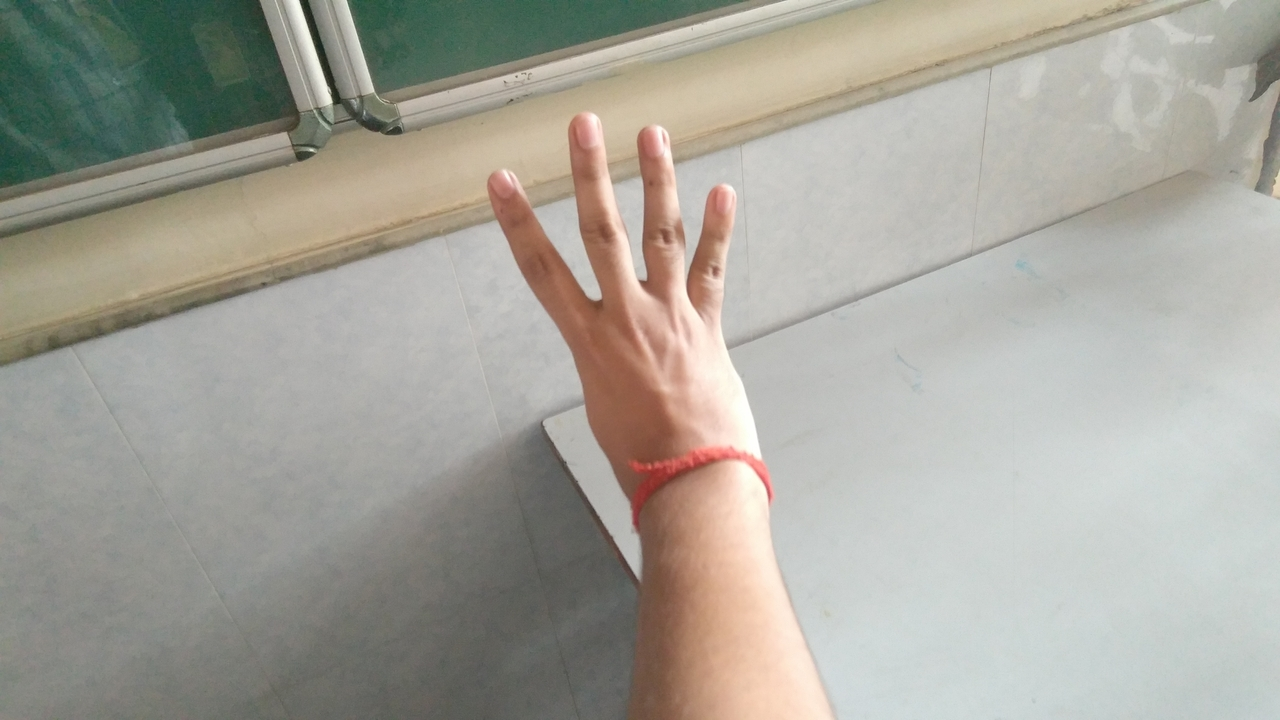fingertip: (476, 154, 532, 208), (698, 172, 748, 222), (560, 102, 612, 150), (628, 112, 682, 158)
